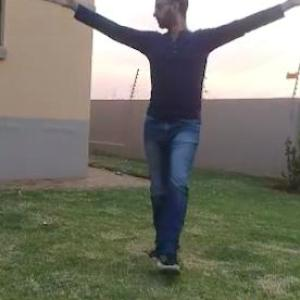takeoff: (52, 0, 299, 293)
